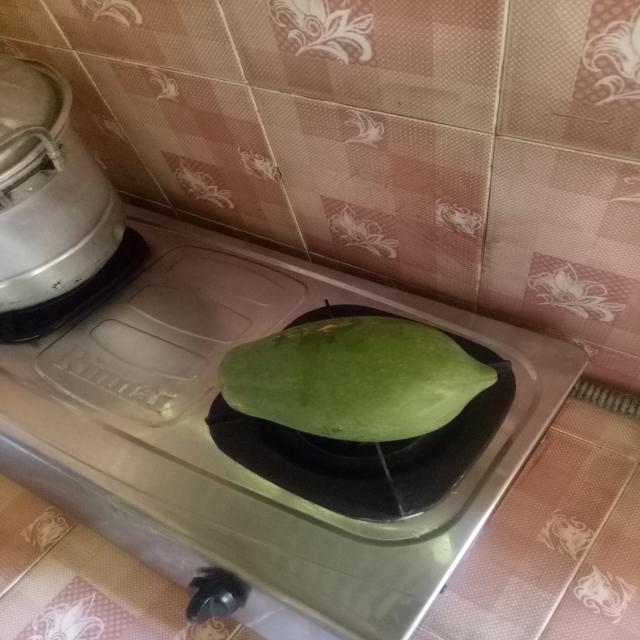Pepaya unrippen: (205, 320, 498, 436)
